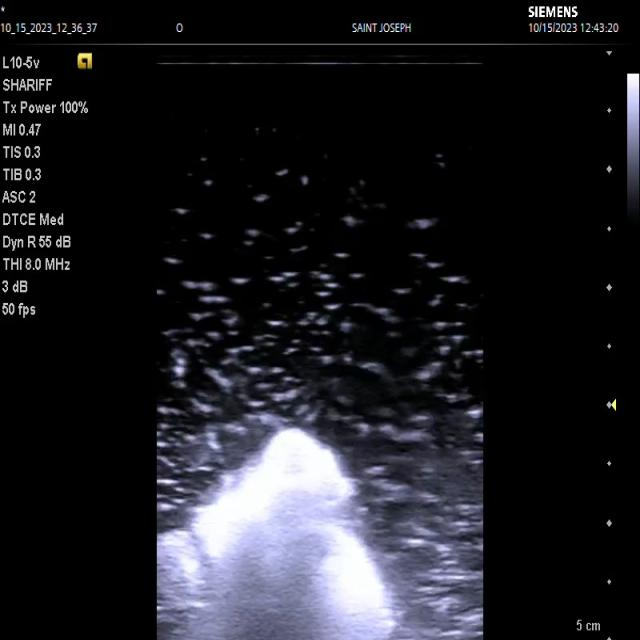tissue: (158, 429, 394, 640)
